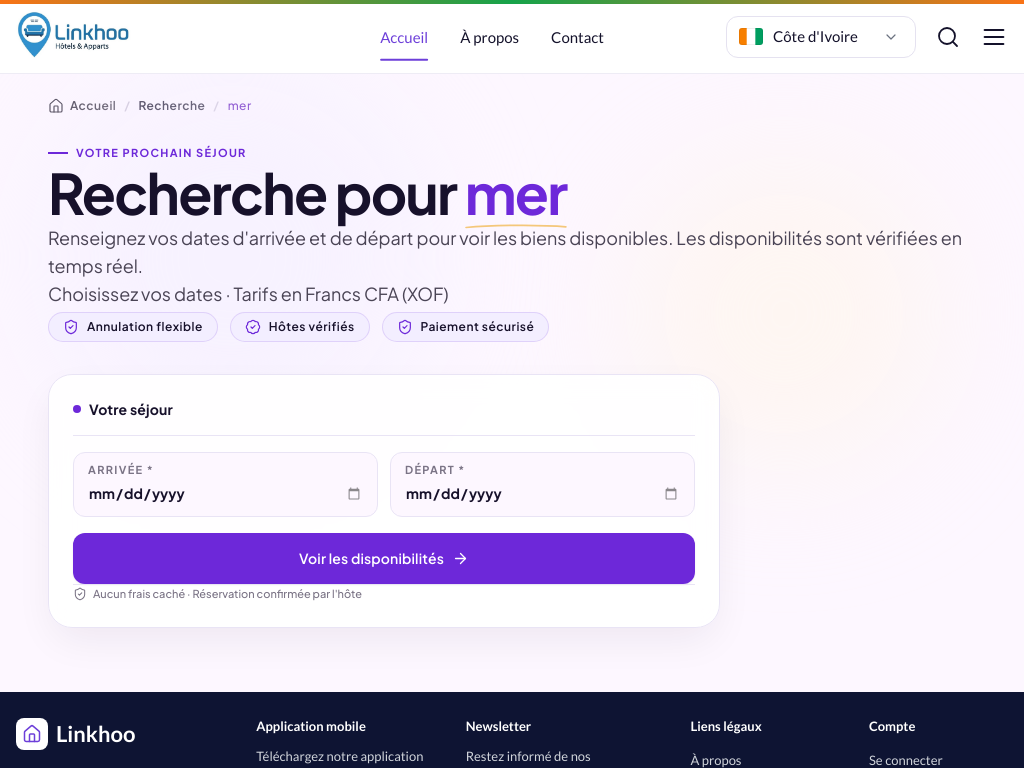
Test: SearchResultsPage — panneau de dates › valide les dates, met à jour l’URL et affiche les disponibilités
Expected: the heading "Recherche pour mer" is shown, x1=48 y1=157 x2=567 y2=232
Type "2026-03-01" into the date field labelled "Arrivée *" at (226, 494), box x1=88 y1=481 x2=363 y2=506
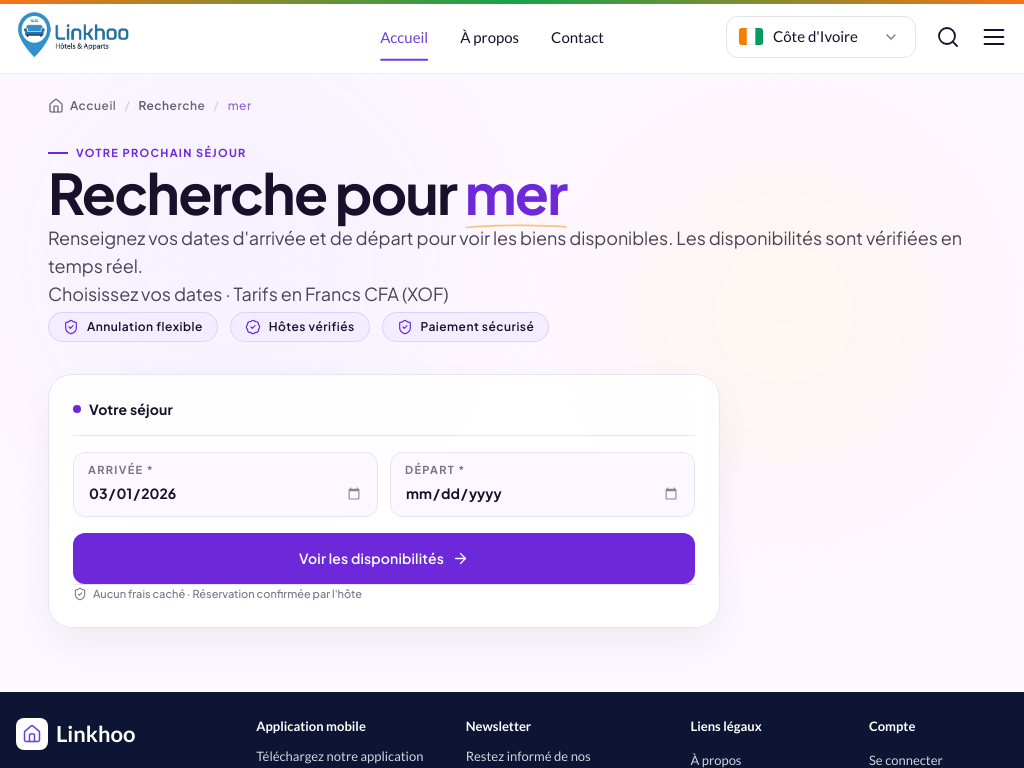
Type "2026-03-04" into the date field labelled "Départ *" at (542, 494), box x1=405 y1=481 x2=680 y2=506
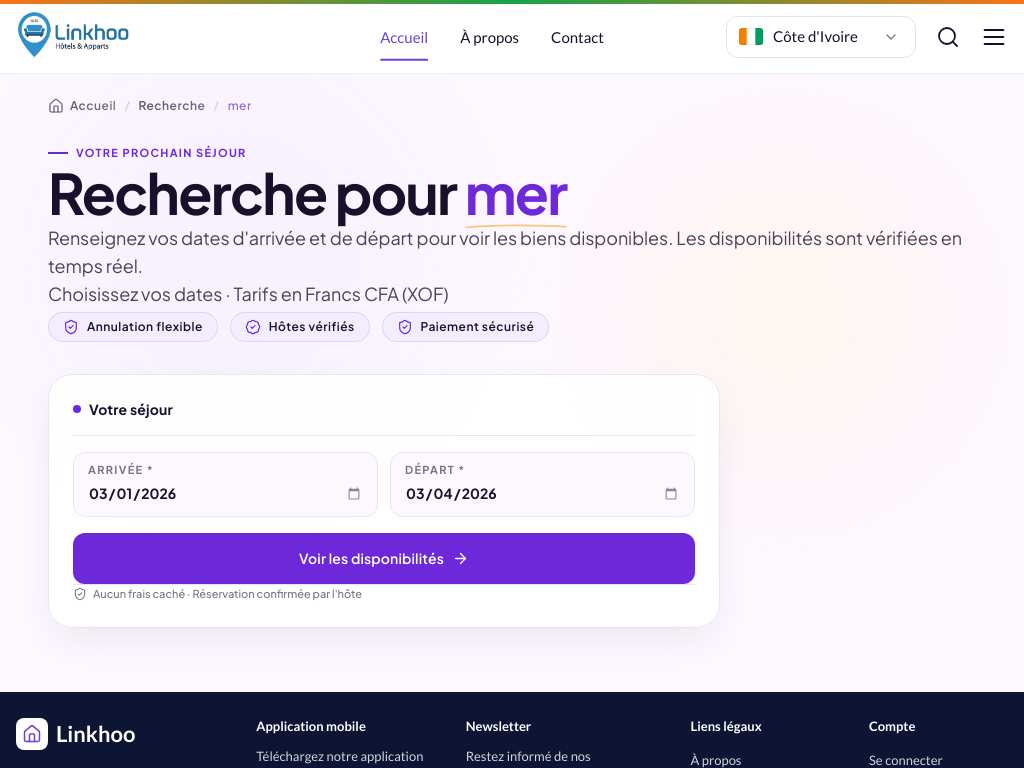
Click the button "Voir les disponibilités" at (384, 559), box x1=73 y1=533 x2=695 y2=584
(page scrolled)
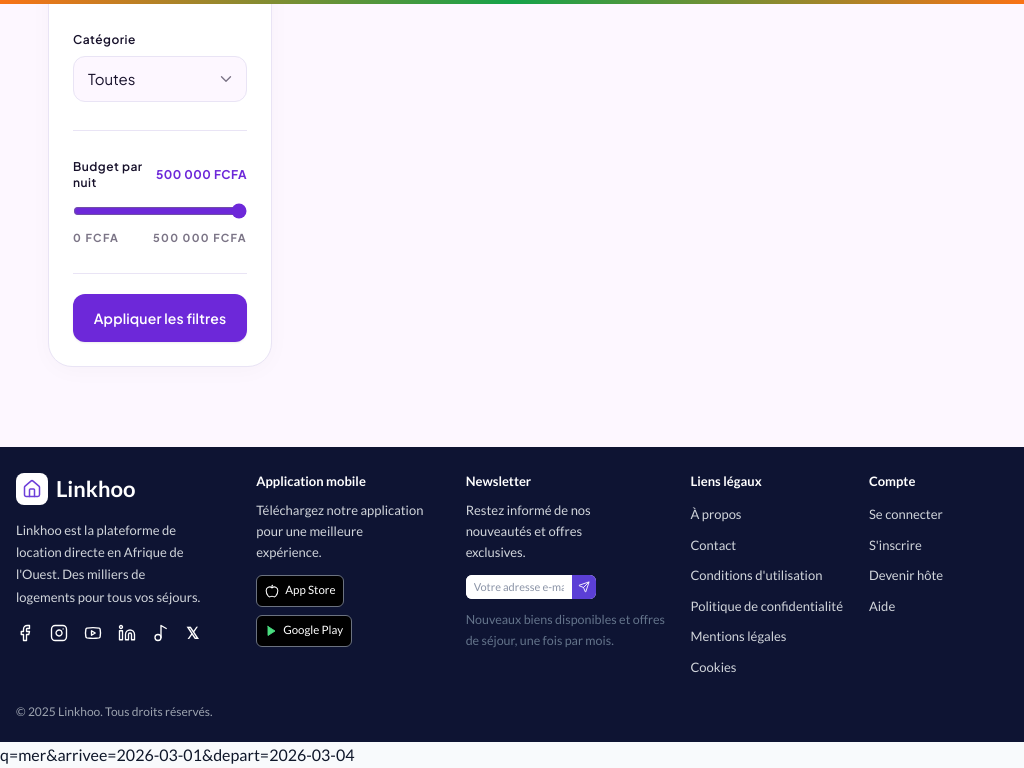
Expected: the text with test id "url-params" shows "q=mer", x1=0 y1=745 x2=354 y2=764
Expected: the text with test id "url-params" shows "arrivee=2026-03-01", x1=0 y1=745 x2=354 y2=764
Expected: the text with test id "url-params" shows "depart=2026-03-04", x1=0 y1=745 x2=354 y2=764
